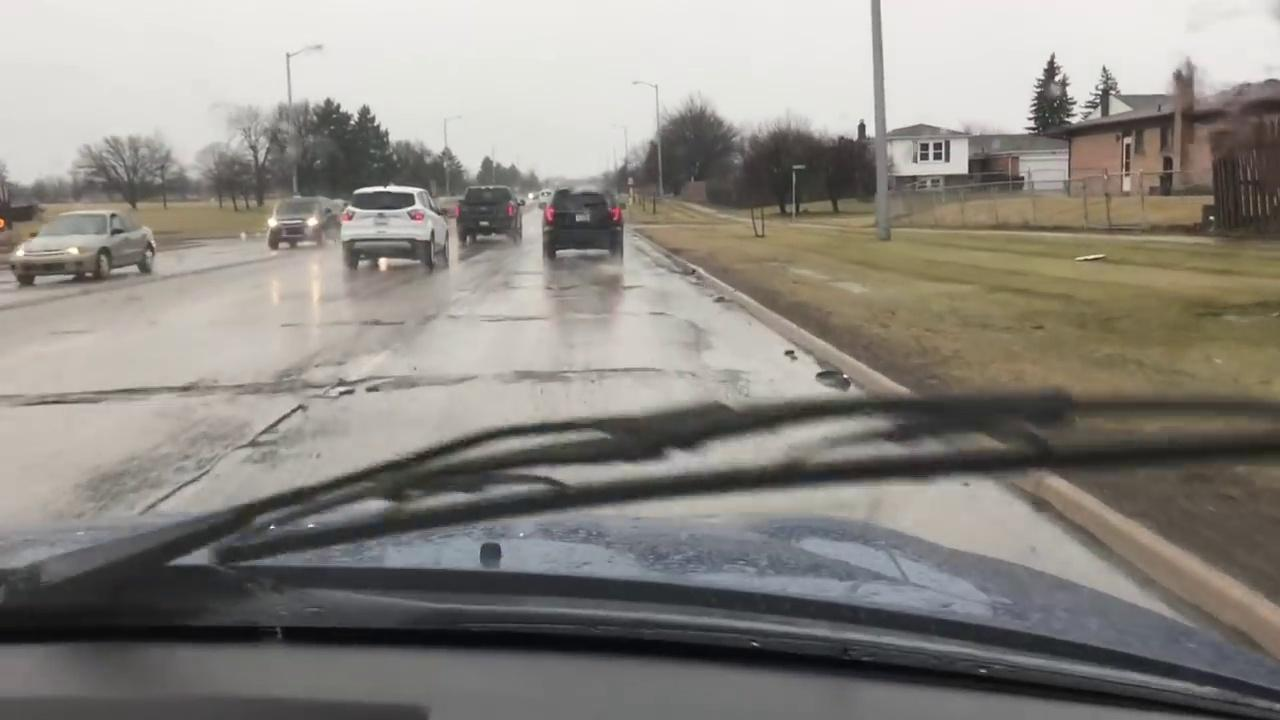pothole: (20, 381, 202, 407), (235, 397, 316, 453), (502, 362, 668, 385), (202, 373, 314, 403), (323, 371, 402, 395), (404, 370, 482, 392)
